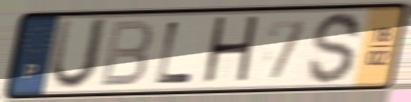7: (266, 18, 307, 80)
B: (97, 18, 155, 90)
H: (199, 13, 262, 89)
L: (153, 19, 196, 86)
S: (305, 10, 364, 87)
U: (47, 15, 112, 93)
